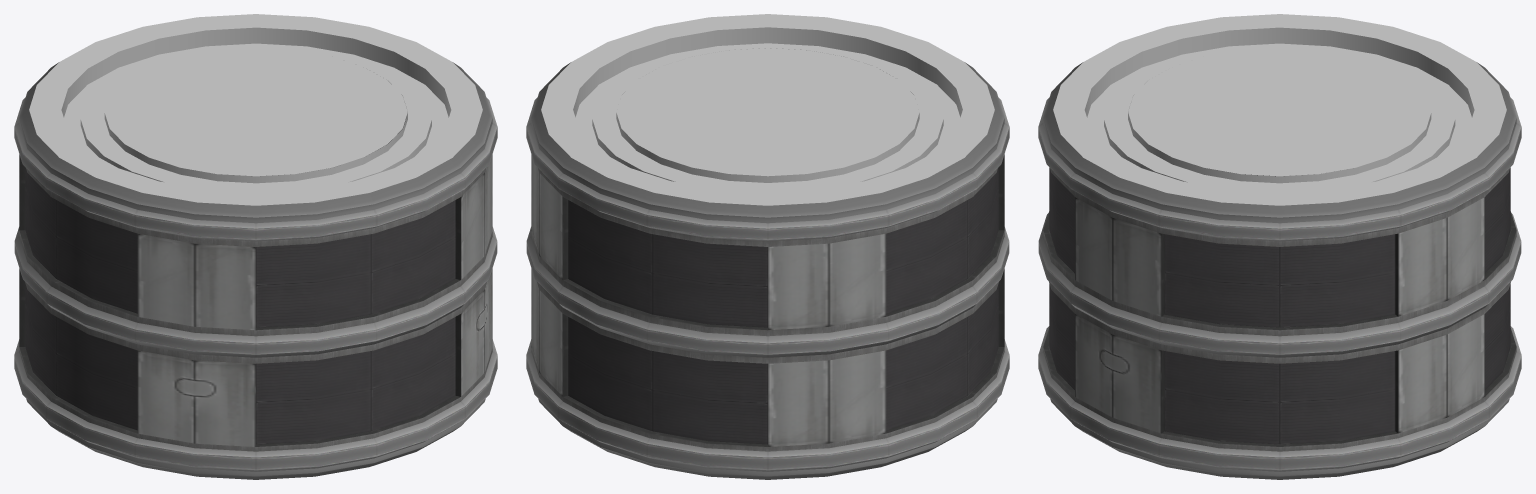
Rendered from MOL_KISmodule.dae.
3 views of the same model, side by side, from view 1: azimuth 30°, elevation 25°; view 2: azimuth 150°, elevation 25°; view 3: azimuth 270°, elevation 25° (orthographic).
Visible parts, largest first — view 1: polySurface76, polySurface77, polySurface68_polySurface59, polySurface69_polySurface58; view 2: polySurface76, polySurface77, polySurface68_polySurface59, polySurface69_polySurface58; view 3: polySurface76, polySurface77, polySurface68_polySurface59, polySurface69_polySurface58.
Boxes of the visible parts, x1,y1,x2,y2 form: polySurface76: (14, 62, 497, 479); polySurface77: (25, 116, 455, 444); polySurface68_polySurface59: (29, 14, 482, 205); polySurface69_polySurface58: (104, 48, 407, 176); polySurface76: (526, 62, 1009, 479); polySurface77: (568, 167, 998, 444); polySurface68_polySurface59: (541, 14, 994, 205); polySurface69_polySurface58: (616, 48, 919, 176); polySurface76: (1038, 62, 1521, 479); polySurface77: (1049, 167, 1510, 444); polySurface68_polySurface59: (1053, 14, 1506, 205); polySurface69_polySurface58: (1128, 48, 1431, 176).
Bounding box in the file's own units: 2 × 1.25 × 2.
